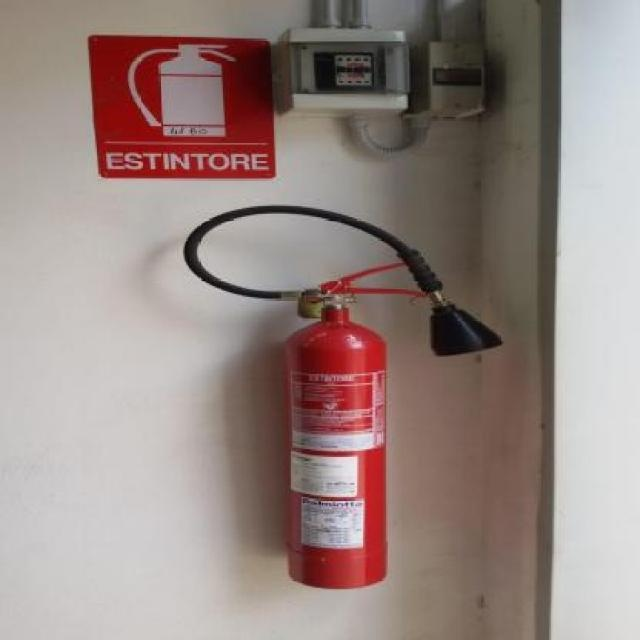fire extinguisher: (184, 203, 505, 589)
